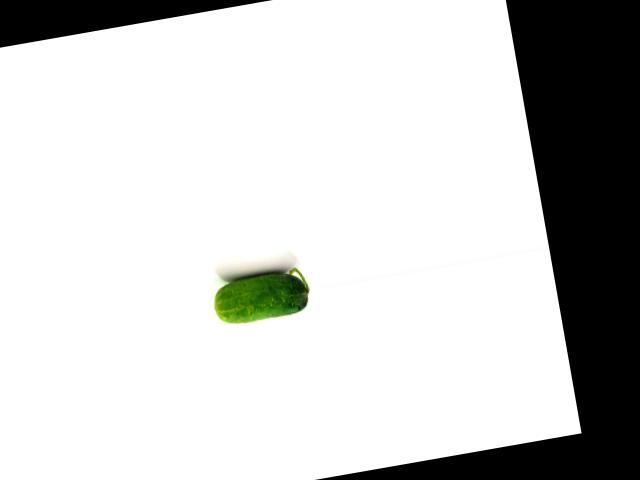cucumber: (208, 265, 311, 327)
